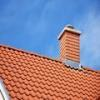chimneys: (57, 25, 80, 68)
